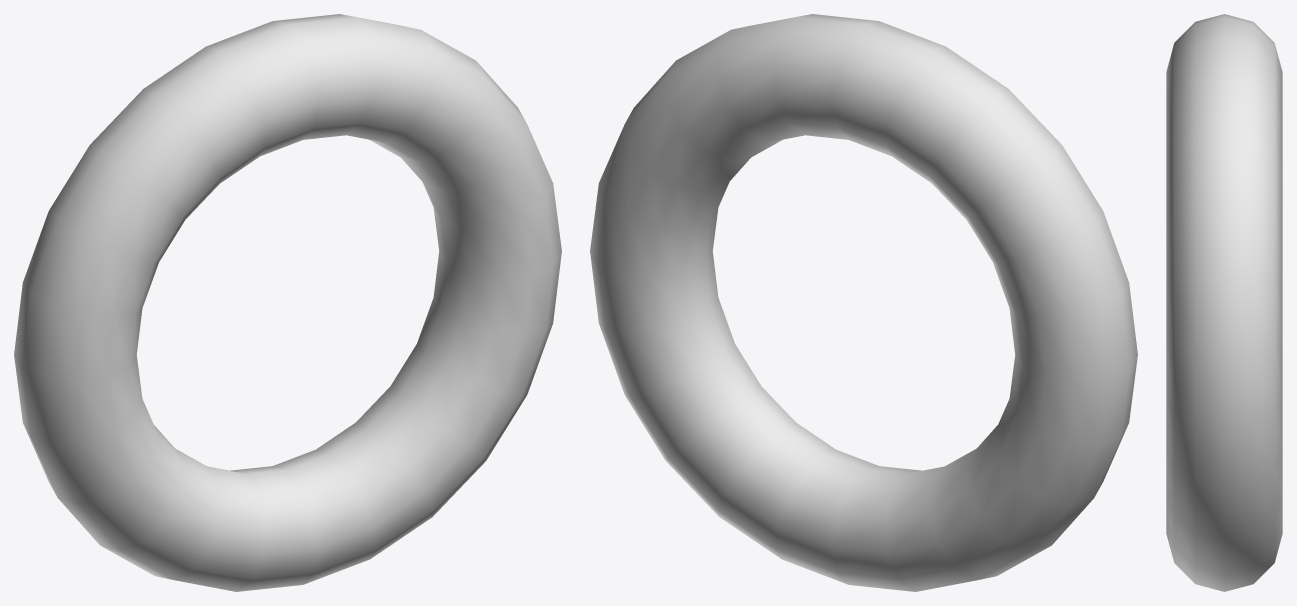
3 views of the same model, side by side, from view 1: azimuth 30°, elevation 25°; view 2: azimuth 150°, elevation 25°; view 3: azimuth 270°, elevation 25° (orthographic). The views are drawn at different scales.
Parts seen in each view (by area): view 1: Torus.010; view 2: Torus.010; view 3: Torus.010.
Part boxes in pixels (<box>): Torus.010: <box>14,14,561,591</box>; Torus.010: <box>590,14,1137,591</box>; Torus.010: <box>1166,14,1282,591</box>.
Bounding box in the file's own units: 0.5607 × 0.5607 × 0.1121.
Materials: 1 (1 with a texture image).
